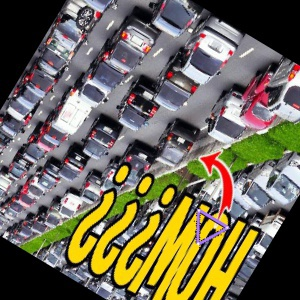triangle: (192, 205, 231, 247)
